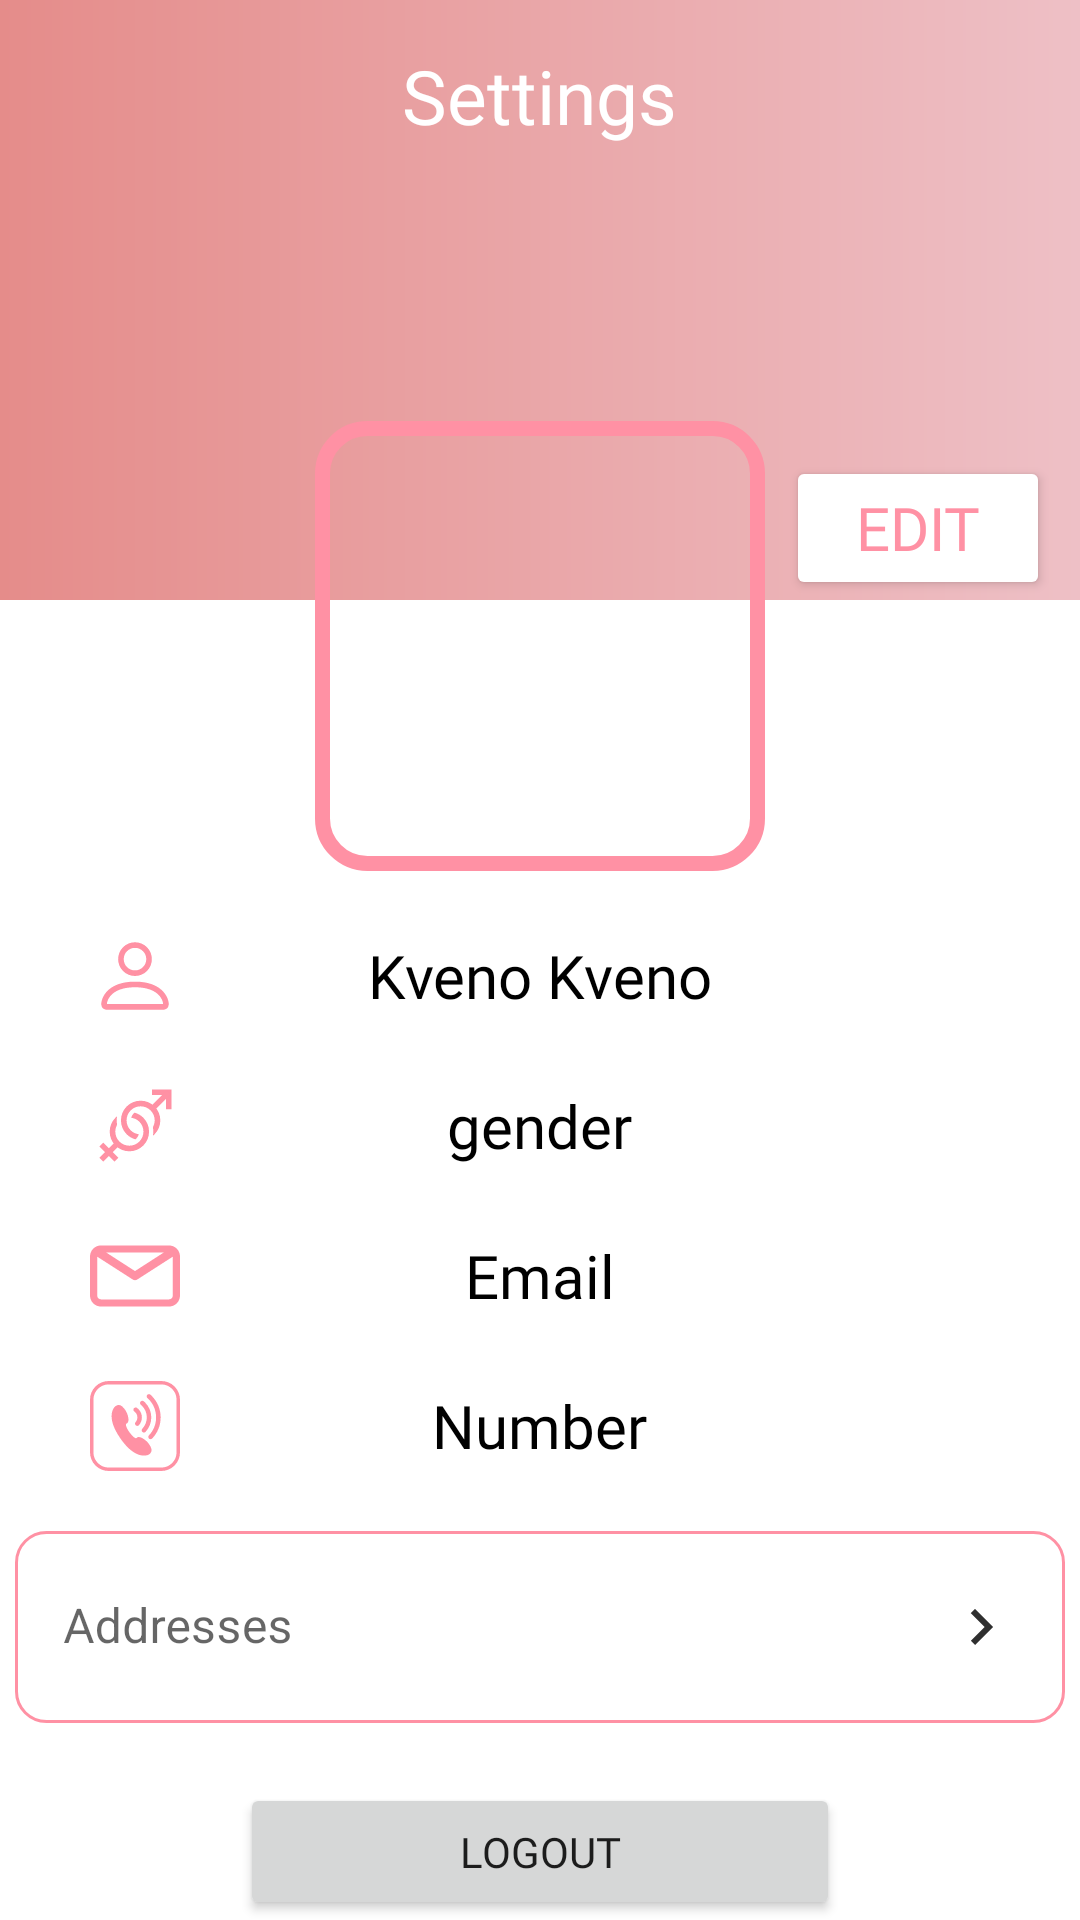

Icon click points for this 1080w x 1920h phone screenshot, format (x,y):
email: (135,1276)
gender: (135,1125)
mobile number: (135,1426)
person: (135,976)
